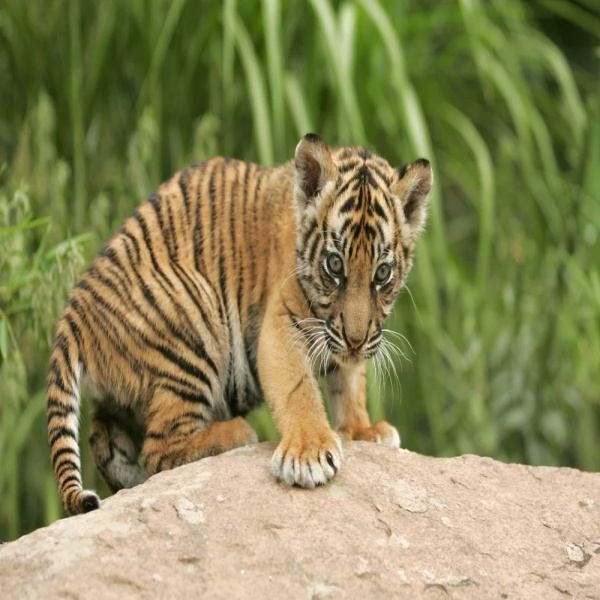Tiger: (43, 130, 438, 516)
